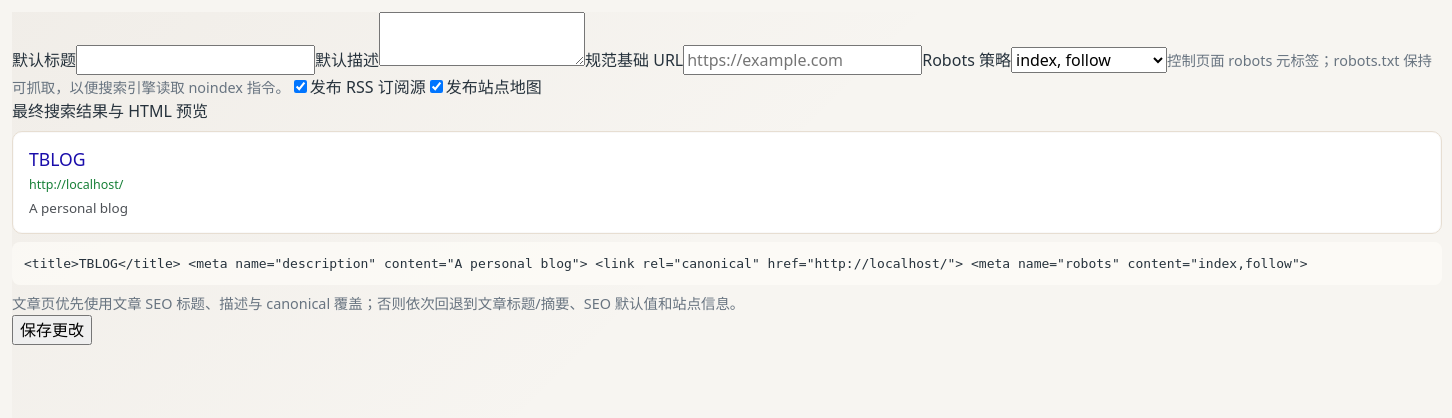
Scenario: SettingsDomainPanel › submits the loaded object and confirms success
Click the button with test id "settings-save". click: (52, 330)
box: 12,315 -> 92,345
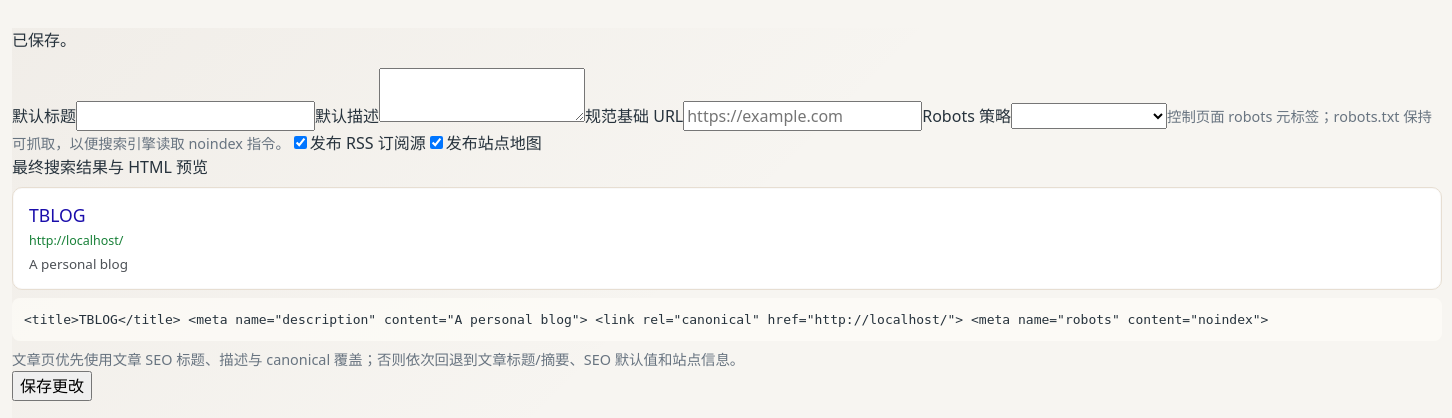
Result: the message with test id "settings-saved" shows "已保存" at 12,29 -> 76,51
